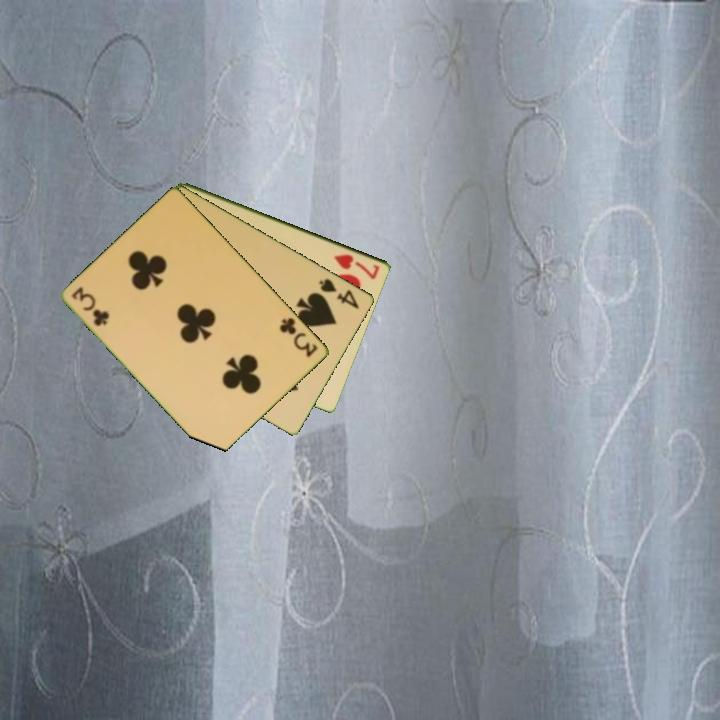3c: (276, 314, 321, 360), (68, 283, 112, 329)
4s: (316, 275, 363, 312)
7h: (331, 250, 383, 282)
